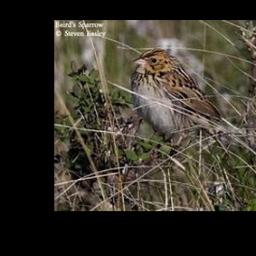Sparrow: (127, 48, 256, 154)
